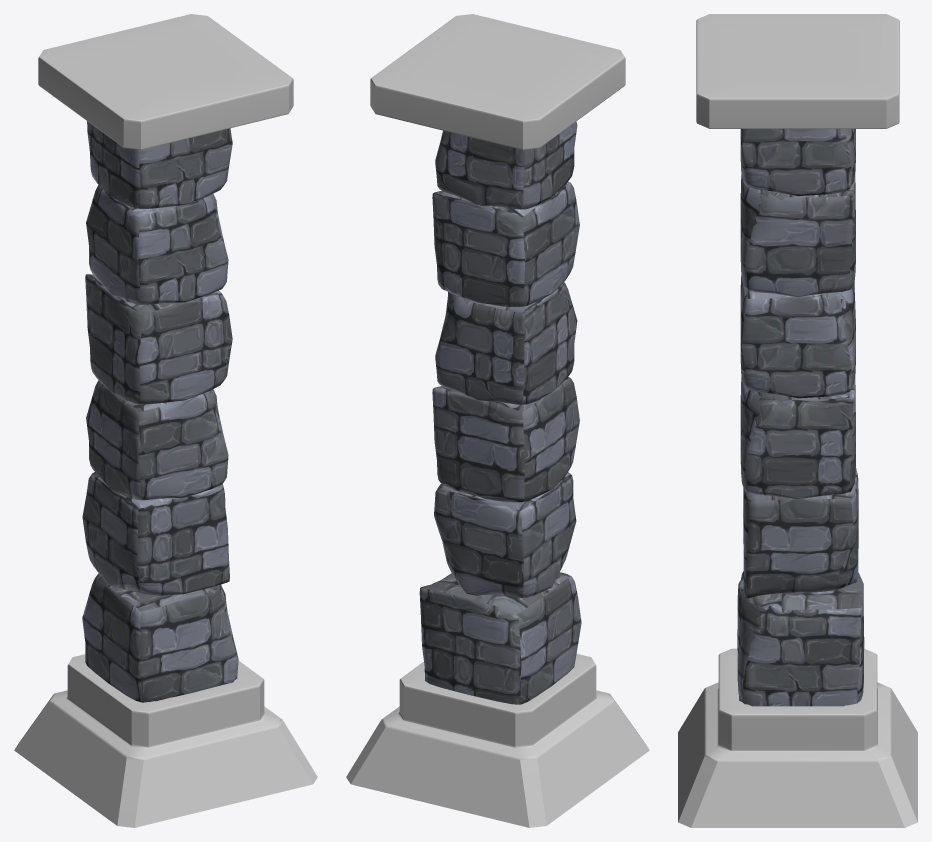
File: Pillar.fbx
The picture shows the model from 3 angles, left to right: view 1: azimuth 30°, elevation 25°; view 2: azimuth 150°, elevation 25°; view 3: azimuth 270°, elevation 25°; orthographic projection. The views are drawn at different scales.
Visible parts, largest first — view 1: Pillar; view 2: Pillar; view 3: Pillar.
Boxes of the visible parts, x1,y1,x2,y2 form: Pillar: (14, 14, 317, 827); Pillar: (346, 14, 649, 827); Pillar: (678, 14, 917, 827).
Bounding box in the file's own units: 4.05 × 13.45 × 4.05.
